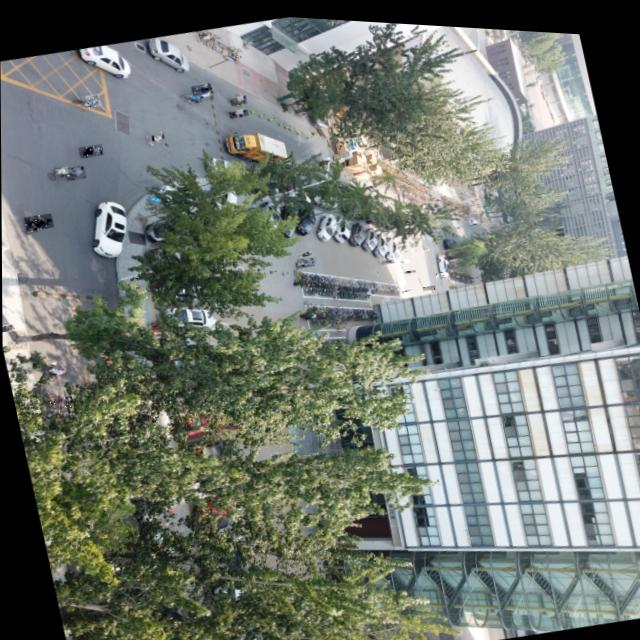Person: (22, 211, 52, 232), (76, 142, 102, 159), (46, 394, 72, 410), (143, 128, 166, 146), (63, 163, 85, 181), (191, 85, 214, 100), (80, 91, 100, 108), (44, 361, 65, 377), (189, 79, 211, 94), (294, 252, 314, 264), (293, 255, 313, 266), (228, 105, 248, 116), (291, 246, 311, 256), (228, 92, 246, 103), (53, 163, 69, 175), (185, 90, 202, 101), (2, 322, 13, 334), (378, 253, 393, 261), (398, 281, 412, 289), (421, 279, 435, 286), (317, 155, 330, 162), (395, 253, 408, 259), (434, 266, 447, 272), (467, 213, 478, 219), (402, 264, 414, 269), (467, 216, 477, 221), (456, 184, 464, 189)
